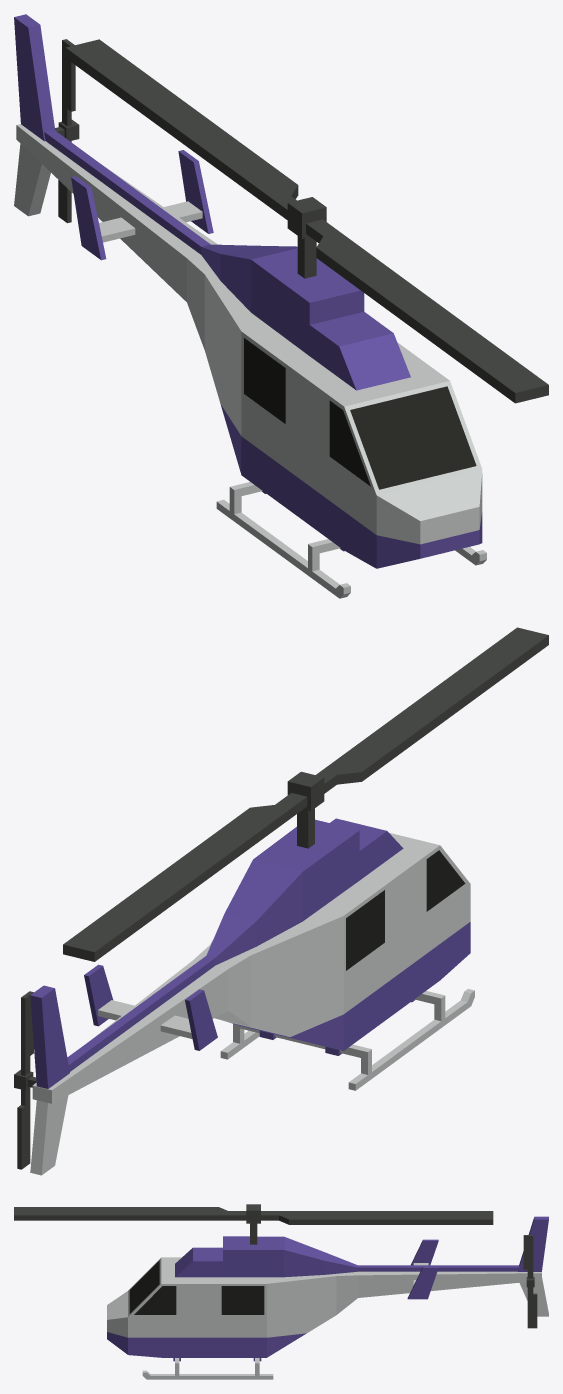
Rendered from Veh_Helicopter_01_Violet.obj.
3 views of the same model, one above another, from view 1: azimuth 30°, elevation 25°; view 2: azimuth 150°, elevation 25°; view 3: azimuth 270°, elevation 25° (orthographic). The views are drawn at different scales.
Size of the model in its own units: 1.02 by 2.05 by 6.44.
